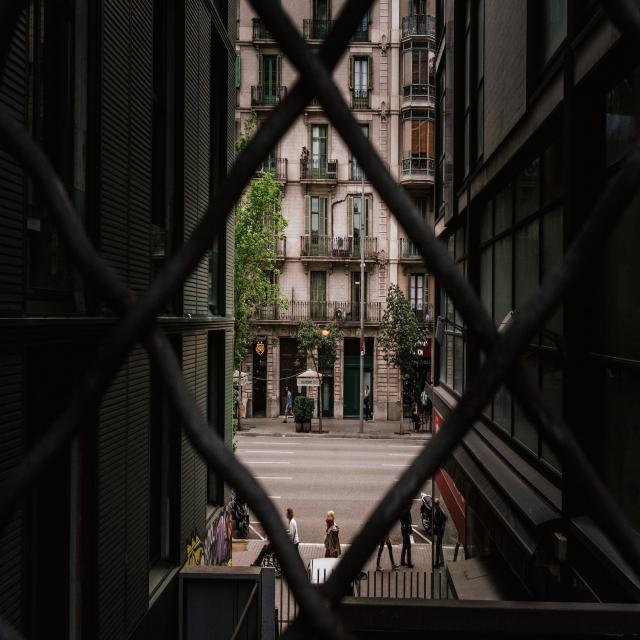adult: (322, 511, 341, 557), (434, 498, 446, 568), (362, 383, 374, 426), (285, 508, 298, 546), (282, 384, 294, 425), (412, 403, 421, 432), (421, 386, 427, 420)
